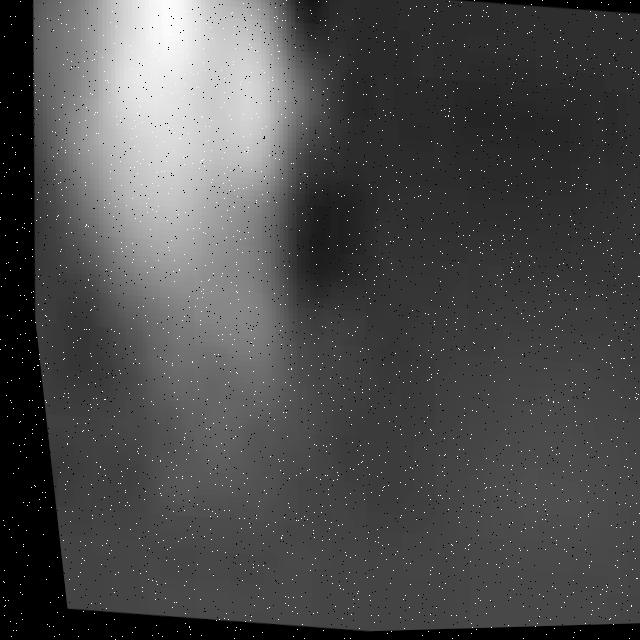person: (1, 1, 329, 484)
